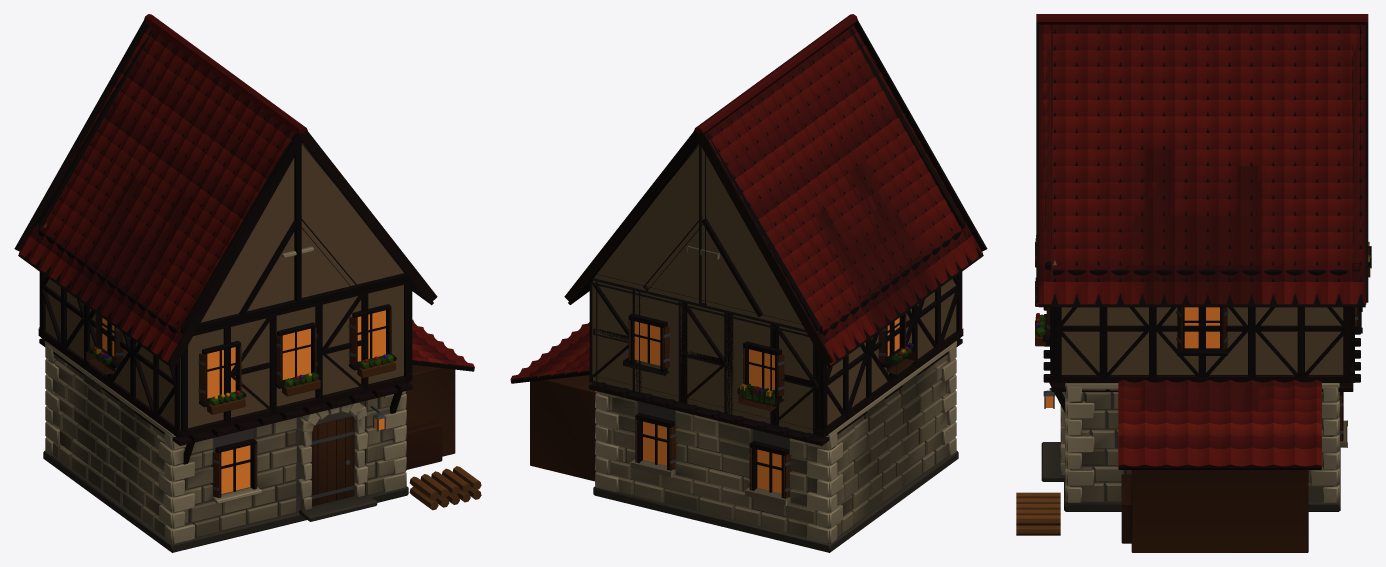
Rendered from Casa4D.fbx.
3 renders of one model, left to right at view 1: azimuth 30°, elevation 25°; view 2: azimuth 150°, elevation 25°; view 3: azimuth 270°, elevation 25°, orthographic. The views are drawn at different scales.
Parts seen in each view (by area): view 1: Casa4D; view 2: Casa4D; view 3: Casa4D.
Boxes of the visible parts, x1,y1,x2,y2 form: Casa4D: [14, 14, 481, 552]; Casa4D: [510, 14, 987, 552]; Casa4D: [1016, 14, 1371, 552].
Size of the model in its own units: 9.63 by 10.87 by 8.02.
